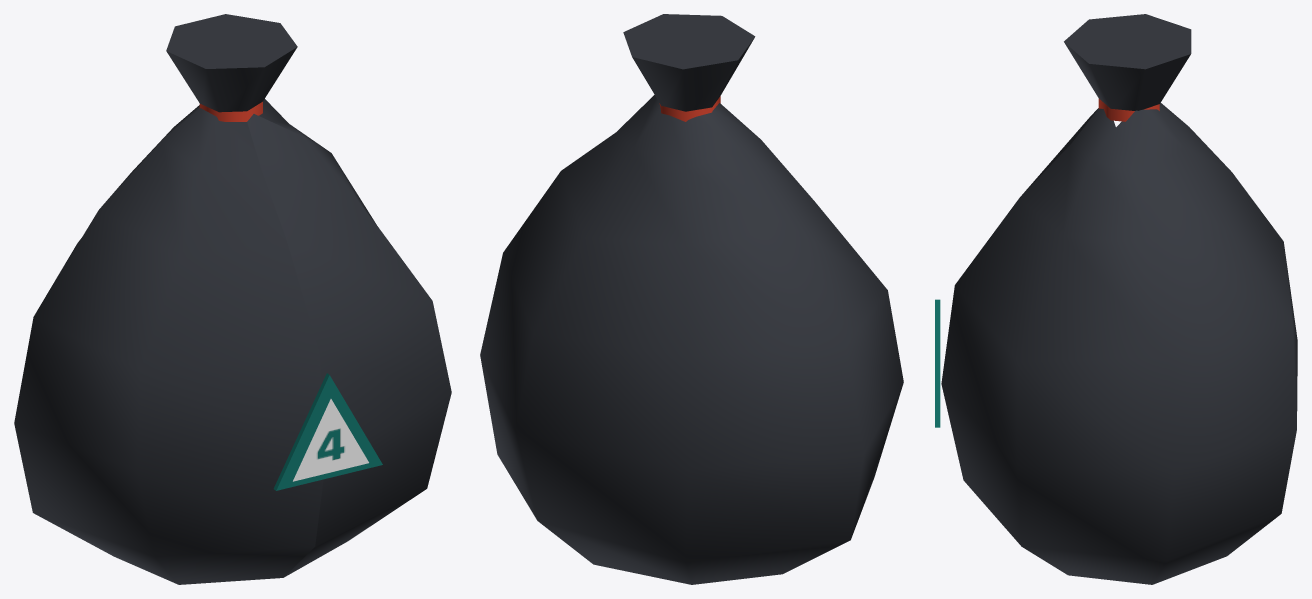
File: kresekBlack.glb
3 renders of one model, left to right at view 1: azimuth 30°, elevation 25°; view 2: azimuth 150°, elevation 25°; view 3: azimuth 270°, elevation 25°, orthographic.
Visible parts, largest first — view 1: kresekBlack_mesh; view 2: kresekBlack_mesh; view 3: kresekBlack_mesh.
Part boxes in pixels (bbox=[...]): kresekBlack_mesh: bbox=[14, 14, 451, 584]; kresekBlack_mesh: bbox=[480, 14, 903, 584]; kresekBlack_mesh: bbox=[935, 14, 1297, 584].
Size of the model in its own units: 0.7796 by 0.984 by 0.6539.
Materials: 1 (1 with a texture image).
